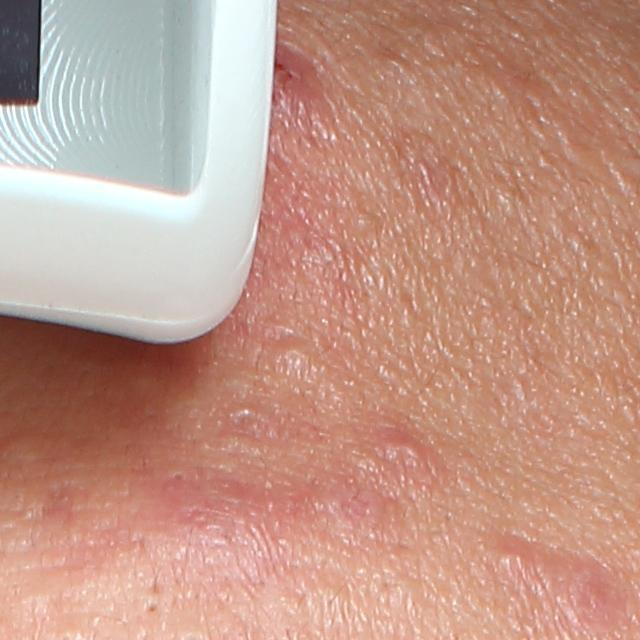comedo: (144, 597, 166, 616), (169, 468, 187, 483)
papule: (264, 44, 322, 117), (559, 561, 622, 624), (320, 480, 385, 540), (378, 424, 435, 470), (493, 539, 550, 581)
